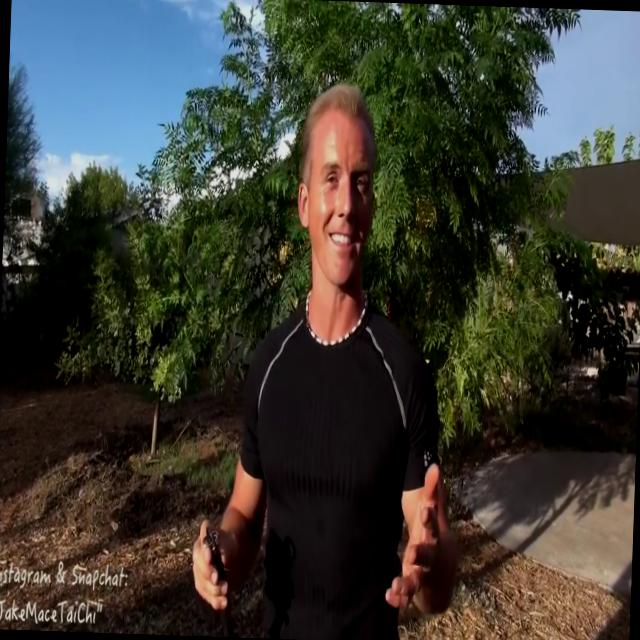knife: (194, 516, 246, 636)
